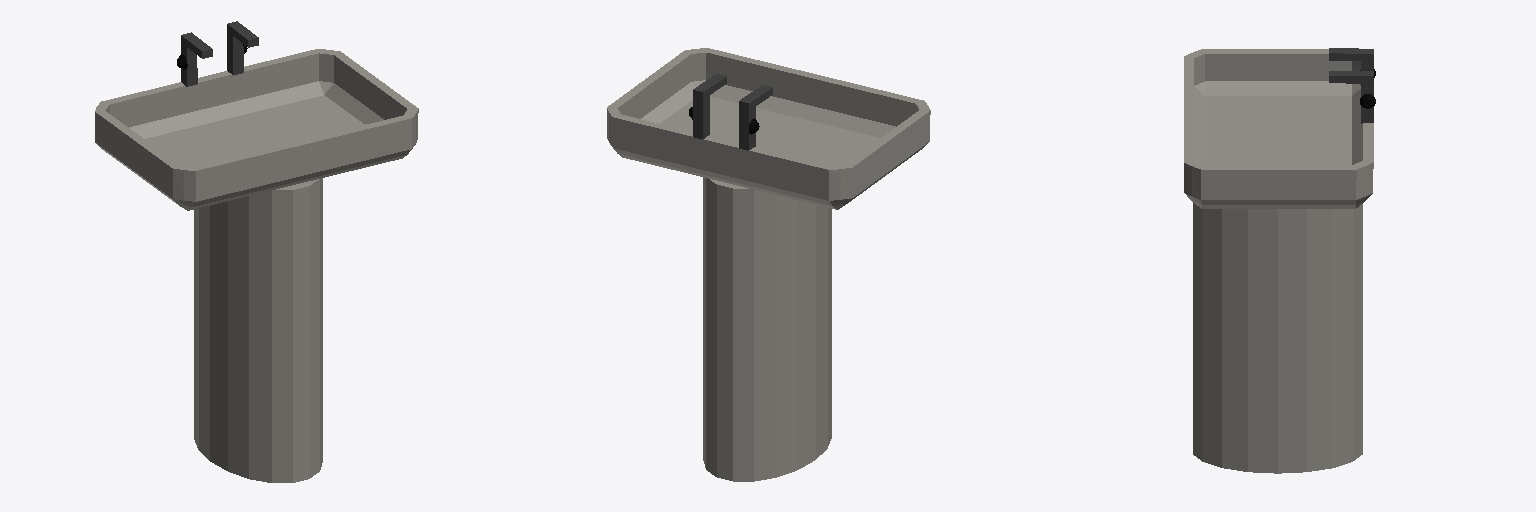
The model's file is sink.obj.
3 renders of one model, left to right at view 1: azimuth 30°, elevation 25°; view 2: azimuth 150°, elevation 25°; view 3: azimuth 270°, elevation 25°, orthographic.
Visible parts, largest first — view 1: Cylinder001, Box001, L_Ext002, L_Ext001; view 2: Cylinder001, Box001, L_Ext002, L_Ext001; view 3: Cylinder001, Box001, L_Ext002, L_Ext001.
Part boxes in pixels (bbox=[...]): Cylinder001: bbox=[194, 178, 322, 482]; Box001: bbox=[95, 49, 418, 210]; L_Ext002: bbox=[227, 21, 258, 75]; L_Ext001: bbox=[181, 32, 212, 86]; Cylinder001: bbox=[703, 177, 831, 481]; Box001: bbox=[607, 48, 930, 209]; L_Ext002: bbox=[693, 74, 726, 139]; L_Ext001: bbox=[739, 85, 772, 150]; Cylinder001: bbox=[1193, 202, 1362, 473]; Box001: bbox=[1184, 49, 1373, 208]; L_Ext002: bbox=[1329, 71, 1373, 123]; L_Ext001: bbox=[1329, 48, 1373, 70].
Bounding box in the file's own units: 25.8 × 38.79 × 17.46.